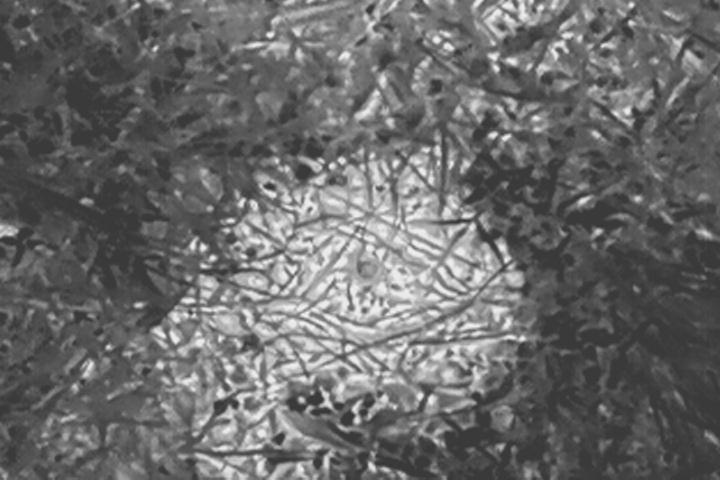landmine: (192, 106, 537, 436)
